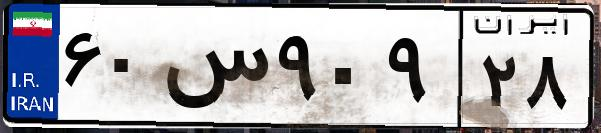0: (330, 28, 385, 110), (110, 28, 158, 98)
2: (475, 38, 525, 113)
6: (57, 26, 110, 100)
8: (525, 38, 570, 115)
9: (270, 28, 330, 110), (385, 28, 445, 110)
س: (158, 20, 270, 120)
